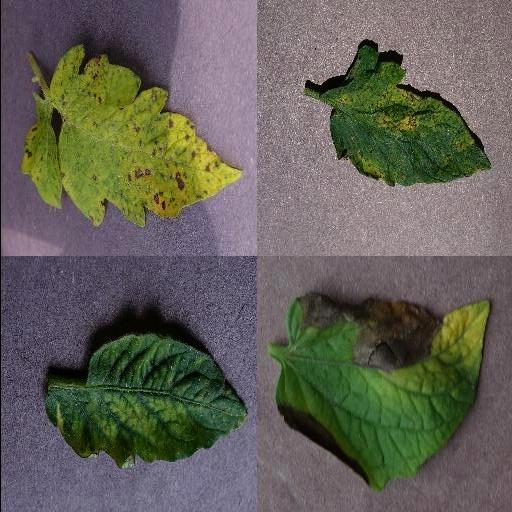Early Blight: (275, 290, 491, 490)
Mosaic Virus: (43, 330, 249, 470)
Septoria: (20, 45, 244, 227), (327, 44, 491, 188)
